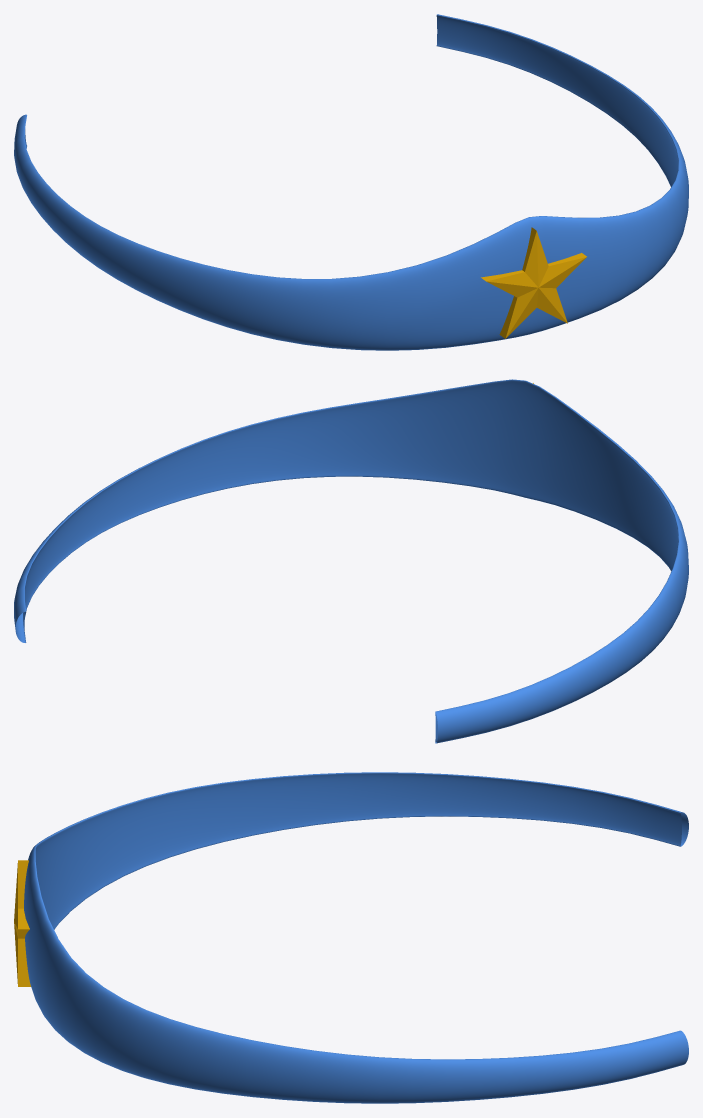
Rendered from tiara.gltf.
3 views of the same model, one above another, from view 1: azimuth 30°, elevation 25°; view 2: azimuth 150°, elevation 25°; view 3: azimuth 270°, elevation 25° (orthographic). The views are drawn at different scales.
Visible parts, largest first — view 1: headband, Mesh_Mesh.015; view 2: headband; view 3: headband, Mesh_Mesh.015.
Part boxes in pixels (bbox=[...]): headband: bbox=[14, 14, 688, 350]; Mesh_Mesh.015: bbox=[481, 227, 586, 338]; headband: bbox=[14, 379, 688, 743]; headband: bbox=[24, 772, 688, 1103]; Mesh_Mesh.015: bbox=[14, 860, 30, 986].
Size of the model in its own units: 3.81 by 0.7699 by 3.69.
